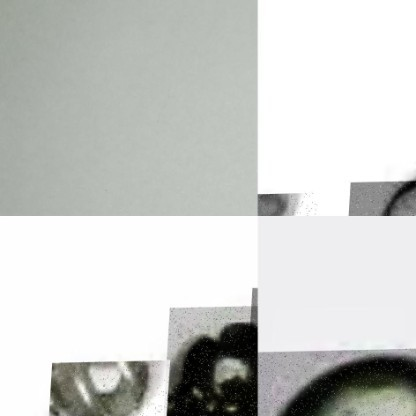ironball: (257, 347, 415, 415), (165, 307, 257, 415), (51, 360, 172, 415), (349, 181, 415, 215)
